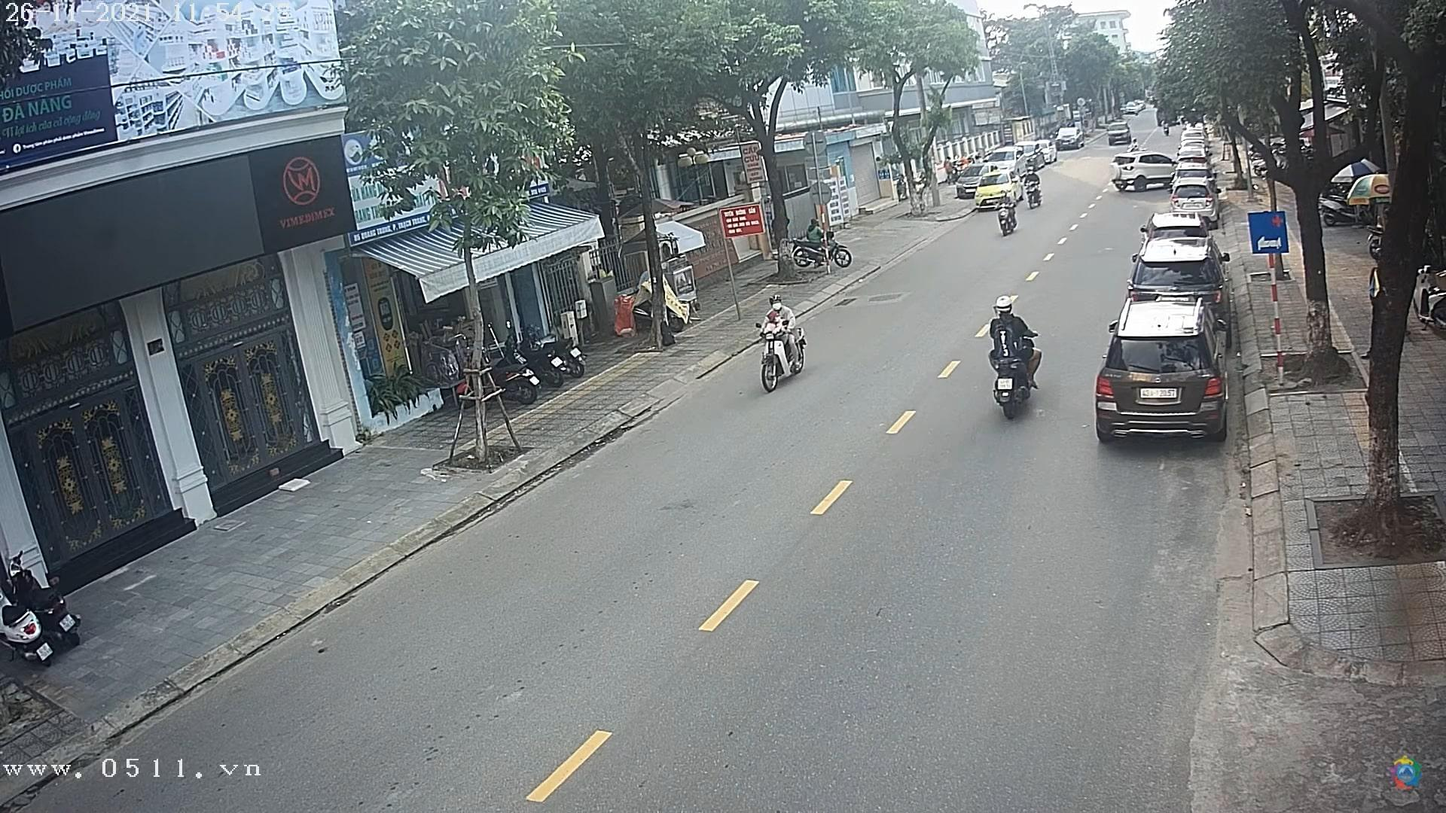car: (1096, 304, 1226, 445), (1129, 236, 1227, 301), (1109, 153, 1180, 193), (1060, 126, 1085, 148)
motorbike: (990, 337, 1046, 418), (752, 324, 810, 391), (999, 198, 1019, 241)
